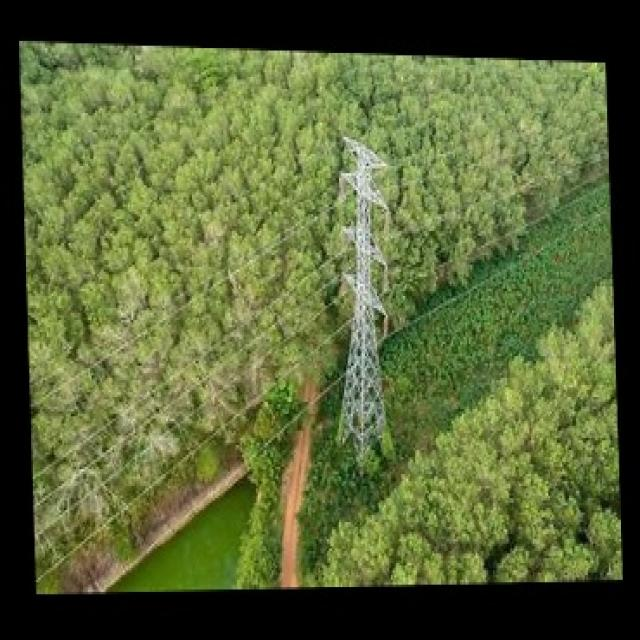utility poles: (323, 95, 413, 473)
